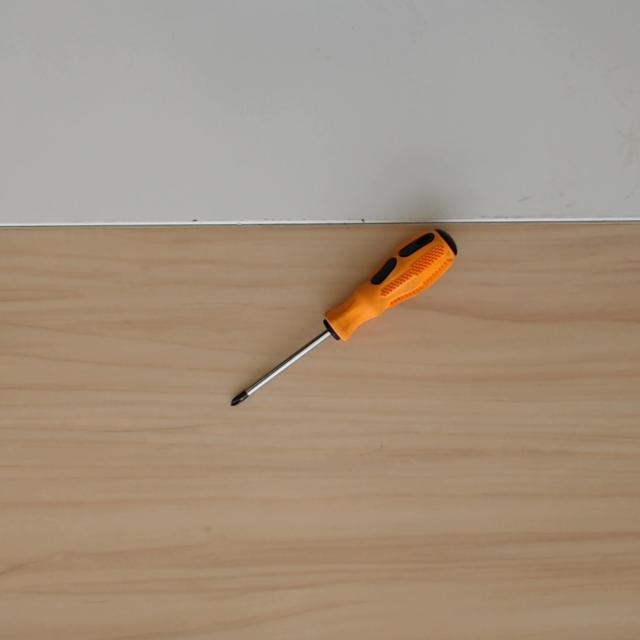Obeng-Besar: (208, 219, 468, 412)
